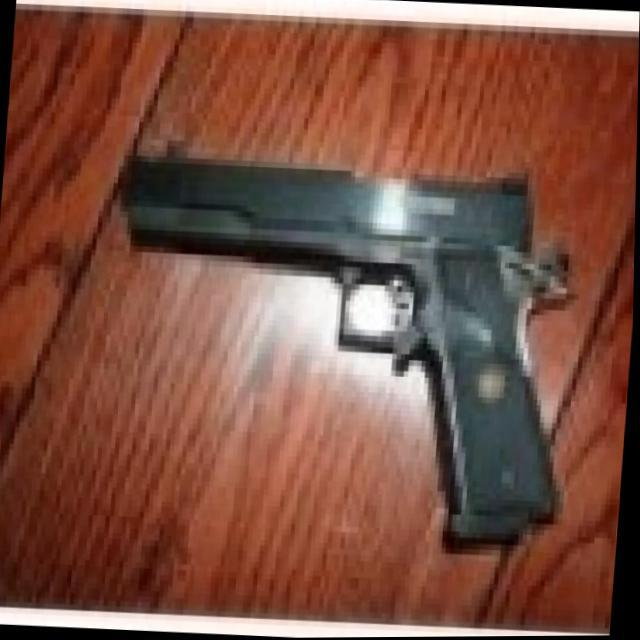weapon: (94, 136, 586, 552)
